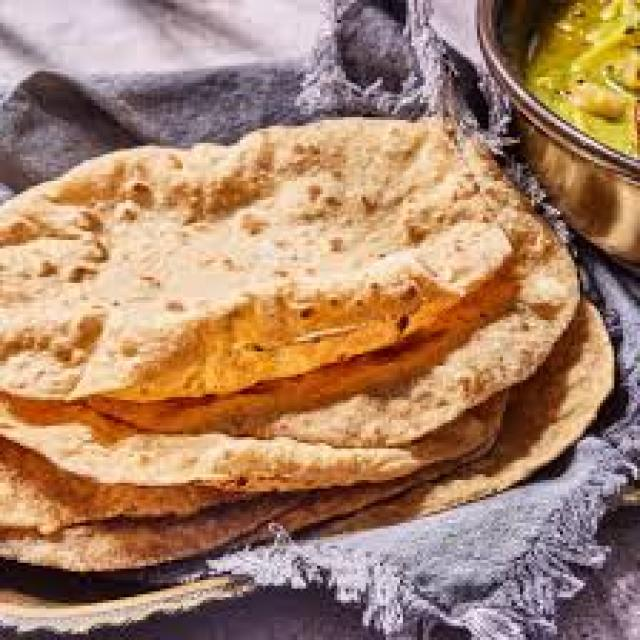ROTI: (0, 120, 551, 423), (263, 251, 577, 446), (6, 426, 431, 489)
